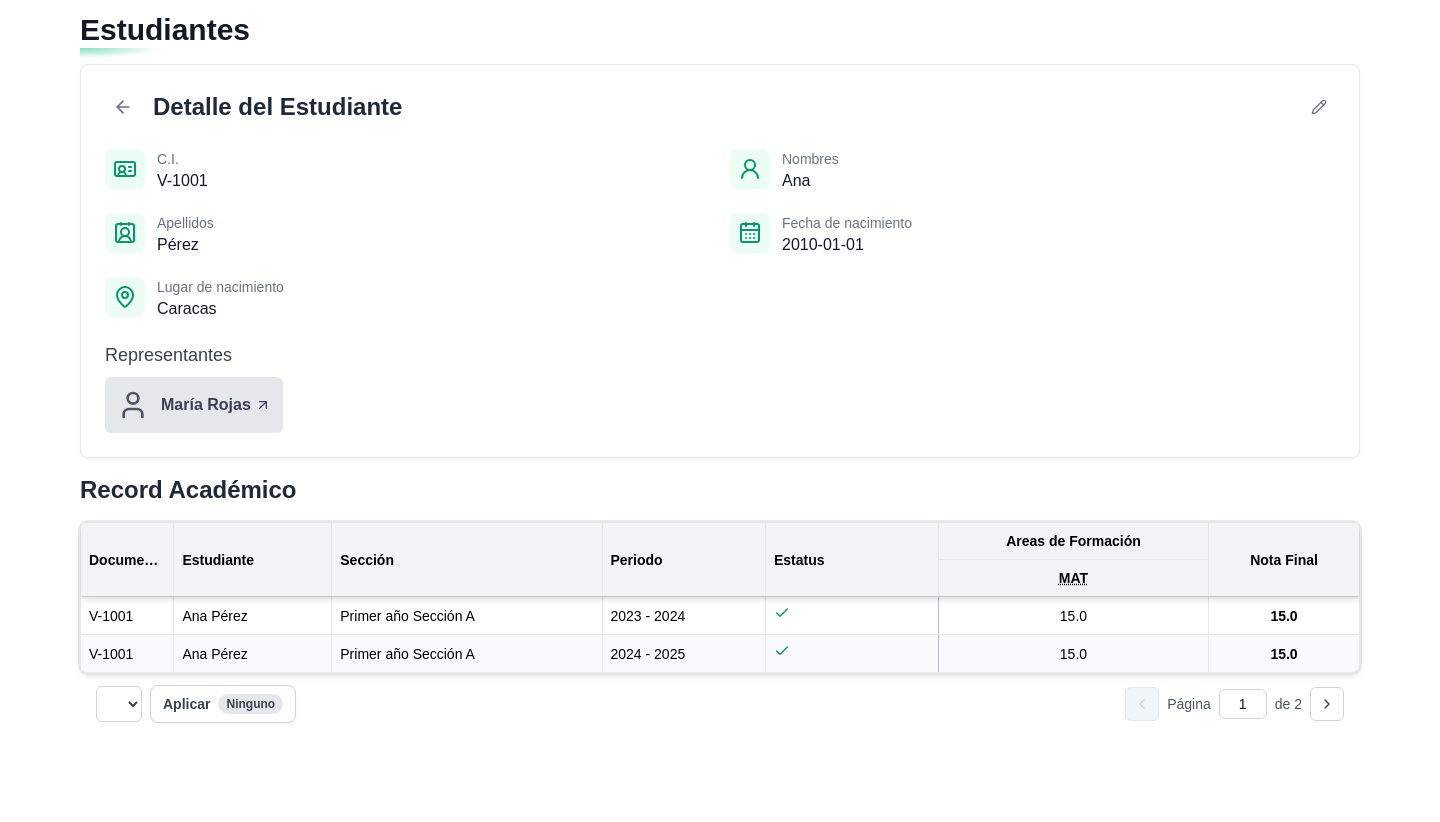
Students page › shows relationship links and paginated, expandable all-period academic history
expect the heading "Record Académico" is shown: met, box [80,476,296,503]
expect the text "2023 - 2024" is shown: met, box [602,596,766,634]
What coordinates should you click on to do the following:
click the button "MAT"
I would click on:
 (1073, 578)
Its box is [1059,568,1088,588].
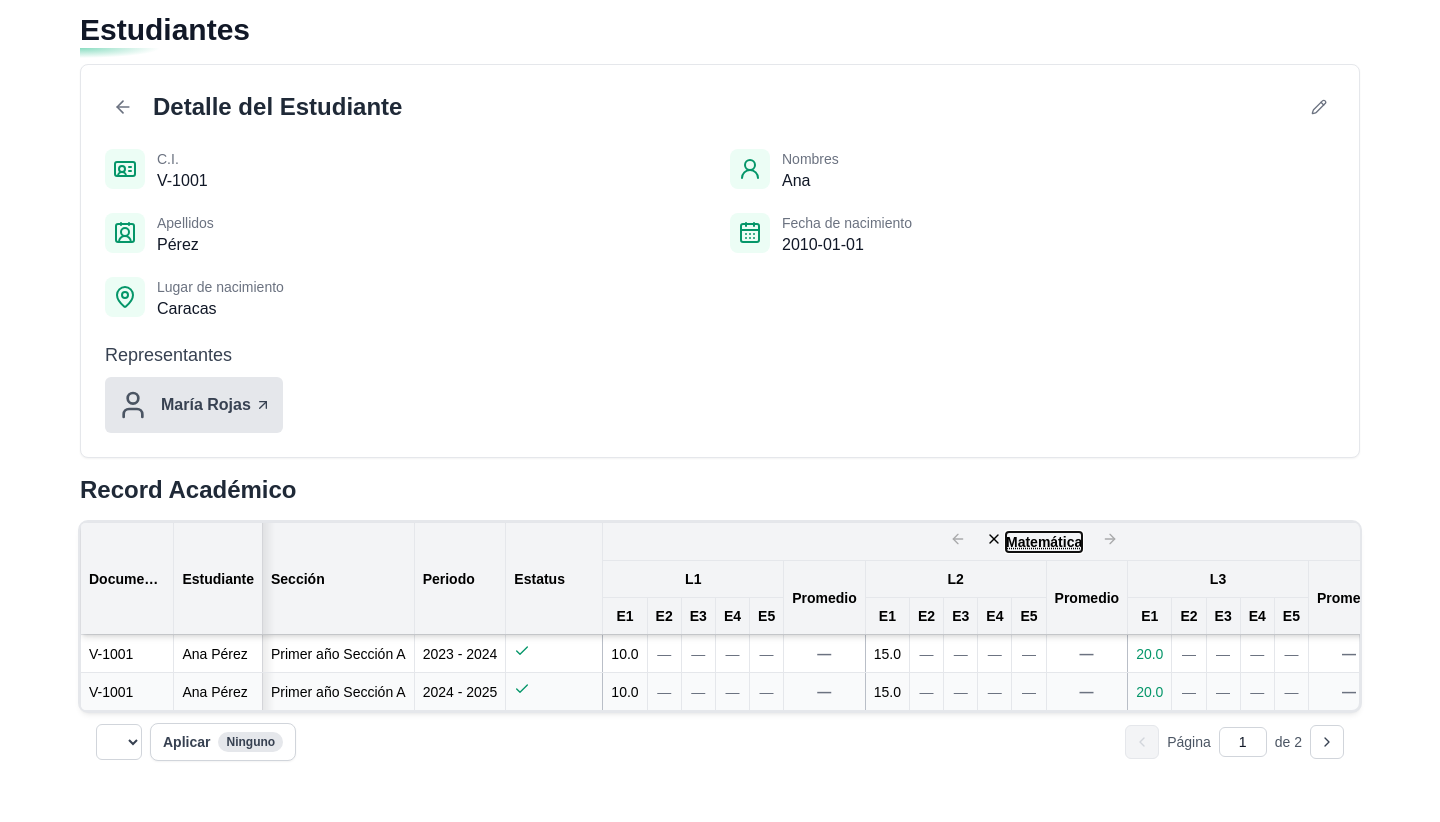
expect the column heading "L1" is shown: met, box [603,560,784,598]
What coordinates should you click on to do the following:
click the button named "Siguiente"
I would click on:
 (1327, 742)
Its box is [1310,725,1344,759].
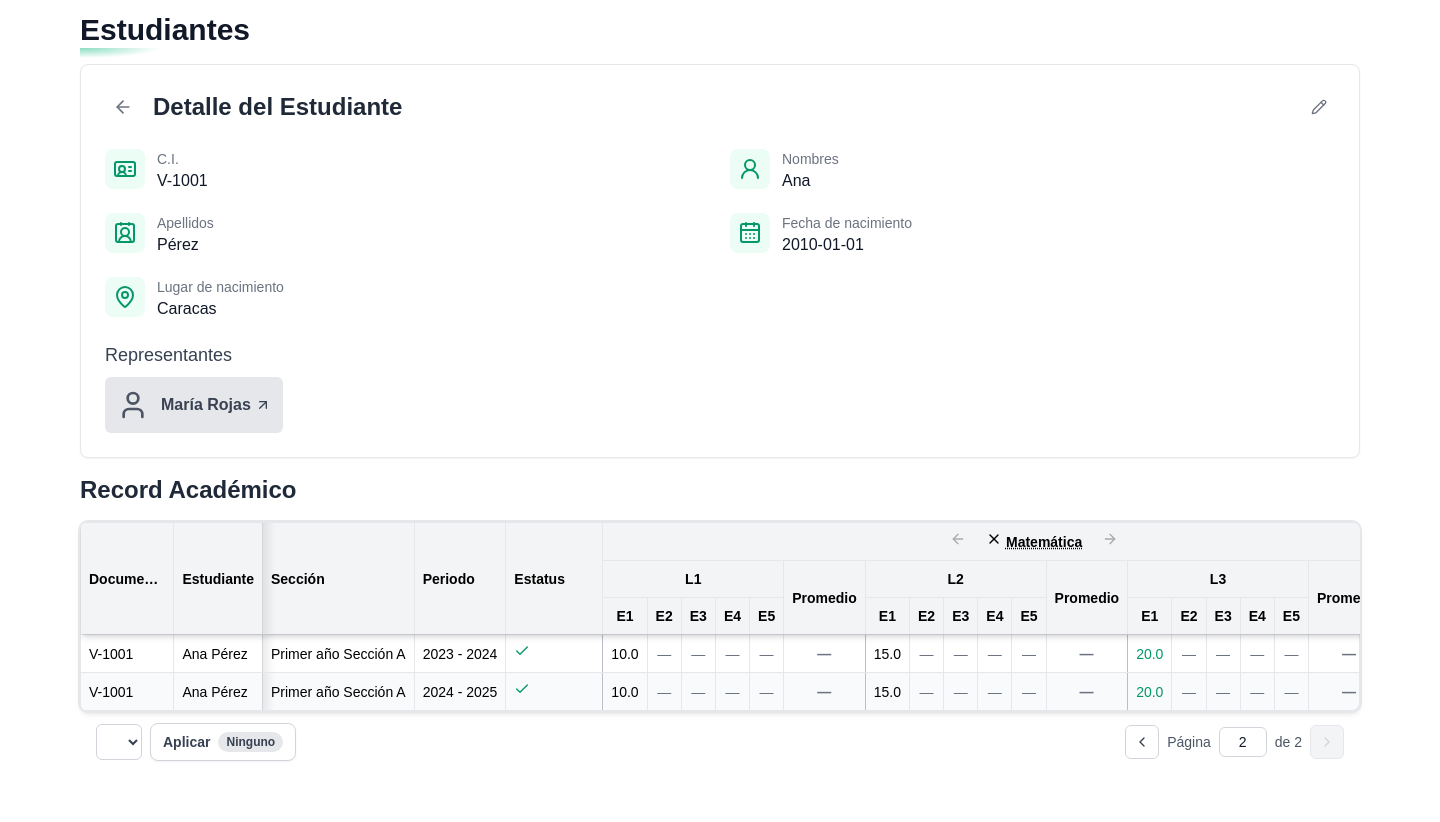
expect the column heading "L1" is shown: met, box [603,560,784,598]
What coordinates should you click on to do the following:
click the button named "Volver"
I would click on:
 (994, 539)
Its box is [986,531,1002,547].
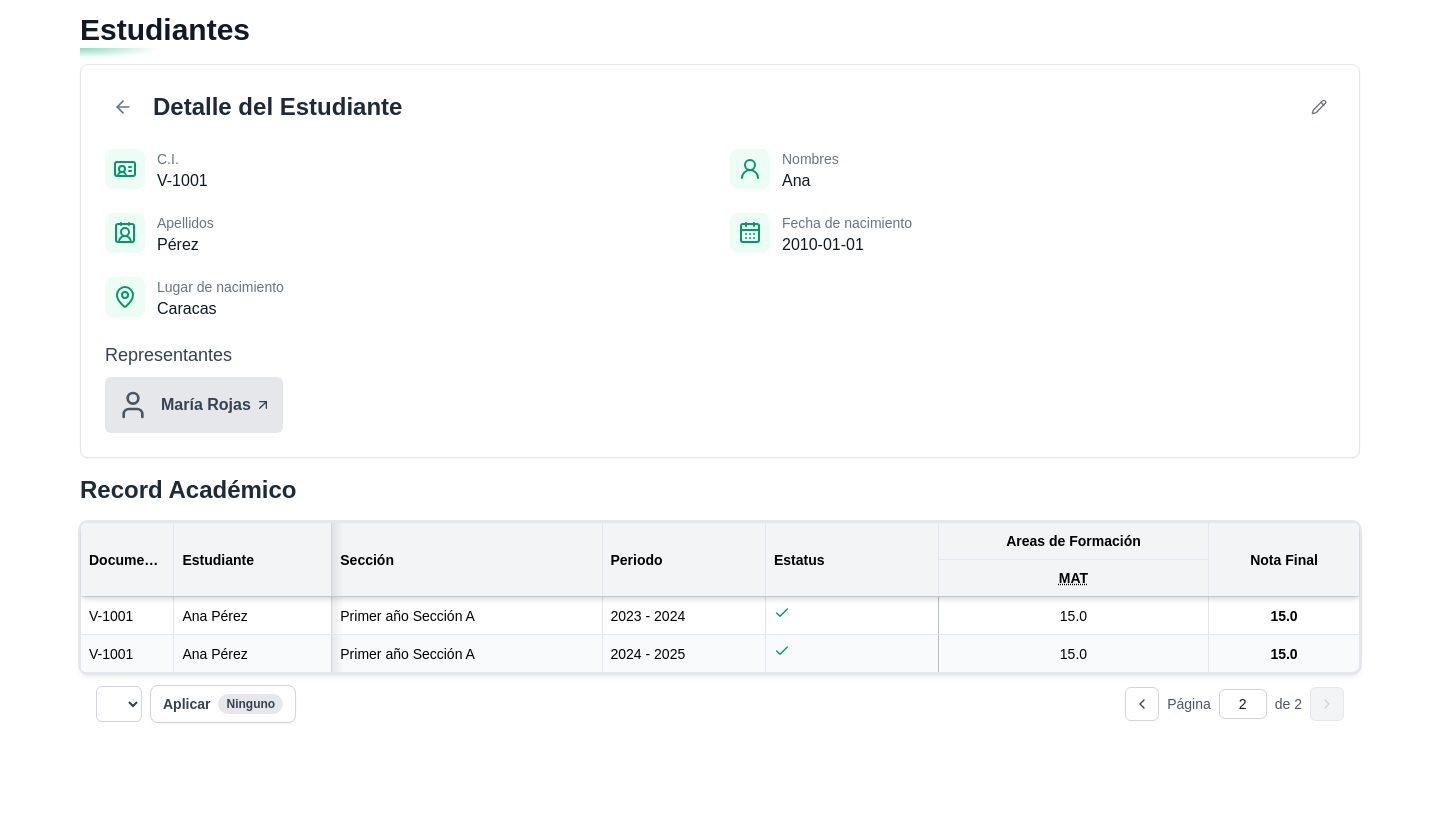
expect the button "MAT" is shown: met, box [1059,568,1088,588]
expect the column heading "L1" is gone: met
